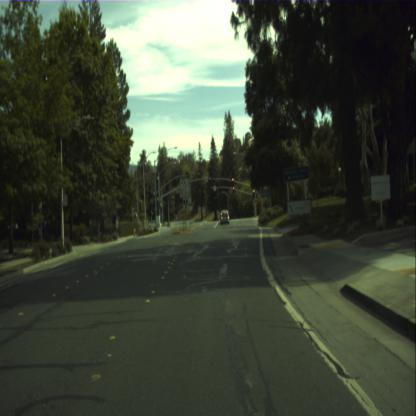Red: (252, 188, 254, 197), (210, 185, 212, 192), (232, 186, 234, 192), (232, 177, 233, 185), (209, 176, 210, 184)
